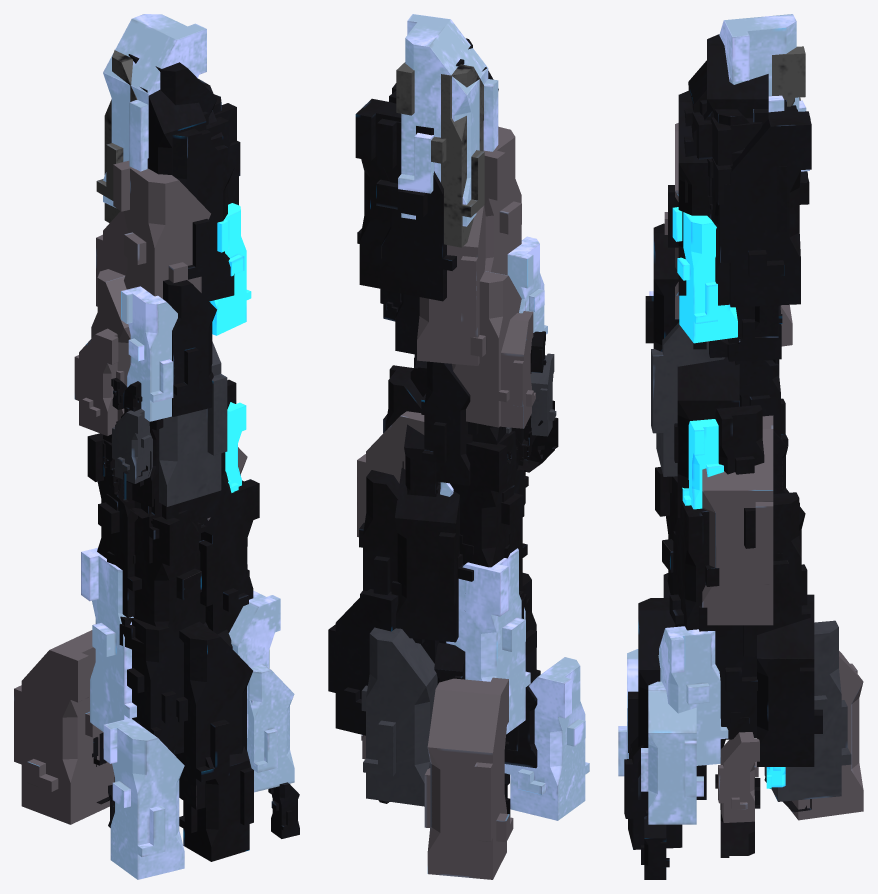
The model's file is monolith.glb.
3 views of the same model, side by side, from view 1: azimuth 30°, elevation 25°; view 2: azimuth 150°, elevation 25°; view 3: azimuth 270°, elevation 25° (orthographic). The views are drawn at different scales.
Parts seen in each view (by area): view 1: Monolith; view 2: Monolith; view 3: Monolith.
Boxes of the visible parts, x1,y1,x2,y2 form: Monolith: (14, 14, 299, 879); Monolith: (328, 14, 589, 879); Monolith: (618, 14, 863, 879).
Size of the model in its own units: 7.84 by 31.35 by 8.45.
Materials: 1 (1 with a texture image).
